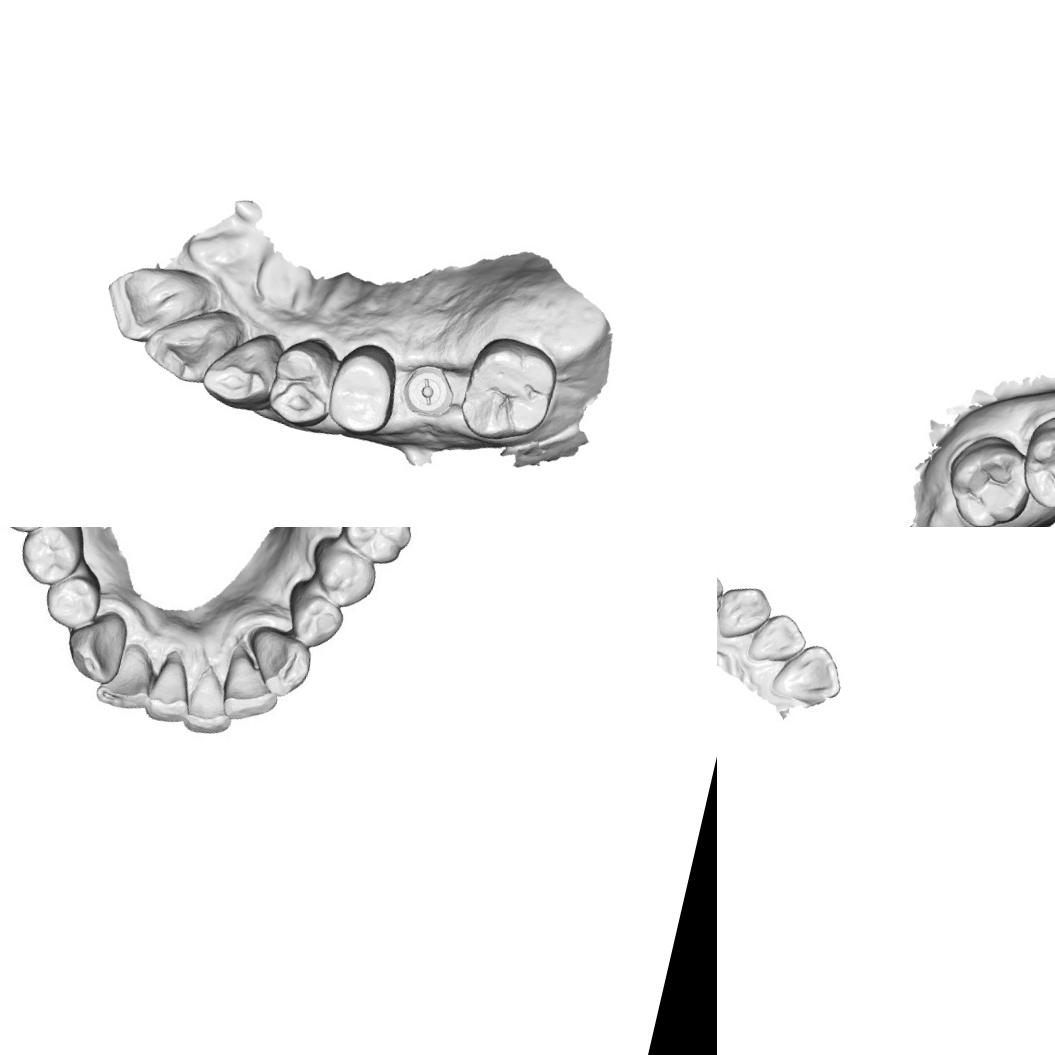canine: (197, 323, 284, 417), (242, 620, 316, 698), (64, 605, 130, 680), (717, 577, 777, 647)
implant_minus: (400, 361, 456, 420)
incisor: (97, 256, 213, 356), (134, 298, 235, 390), (767, 635, 851, 714), (181, 657, 242, 742), (92, 648, 162, 718), (220, 642, 280, 719), (744, 606, 812, 673), (144, 653, 202, 728)
molar: (452, 327, 564, 454), (933, 425, 1040, 527), (1017, 415, 1055, 522), (340, 527, 416, 566)
premolar: (322, 338, 406, 440), (262, 331, 344, 434), (36, 570, 104, 630), (312, 546, 377, 608), (284, 590, 347, 651), (18, 527, 82, 583)
